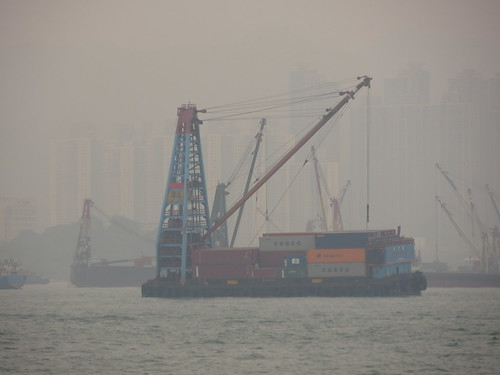boat: (151, 226, 426, 302)
river: (7, 286, 500, 375)
sky: (1, 1, 486, 237)
